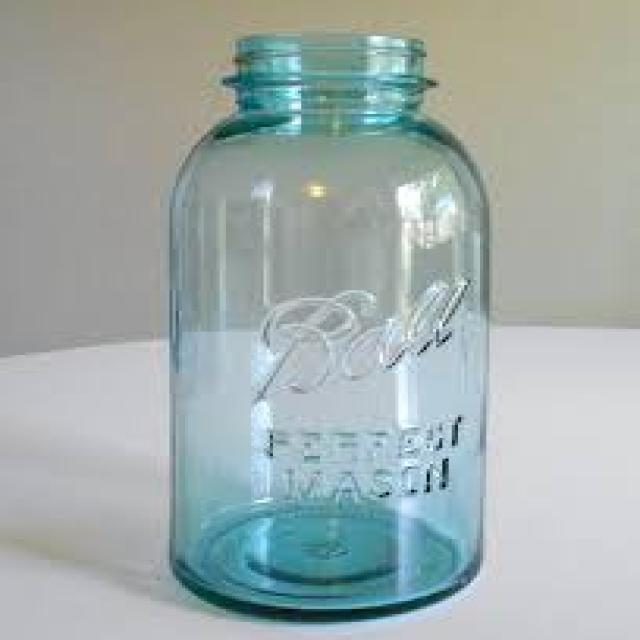Anorganik: (170, 31, 483, 617)
